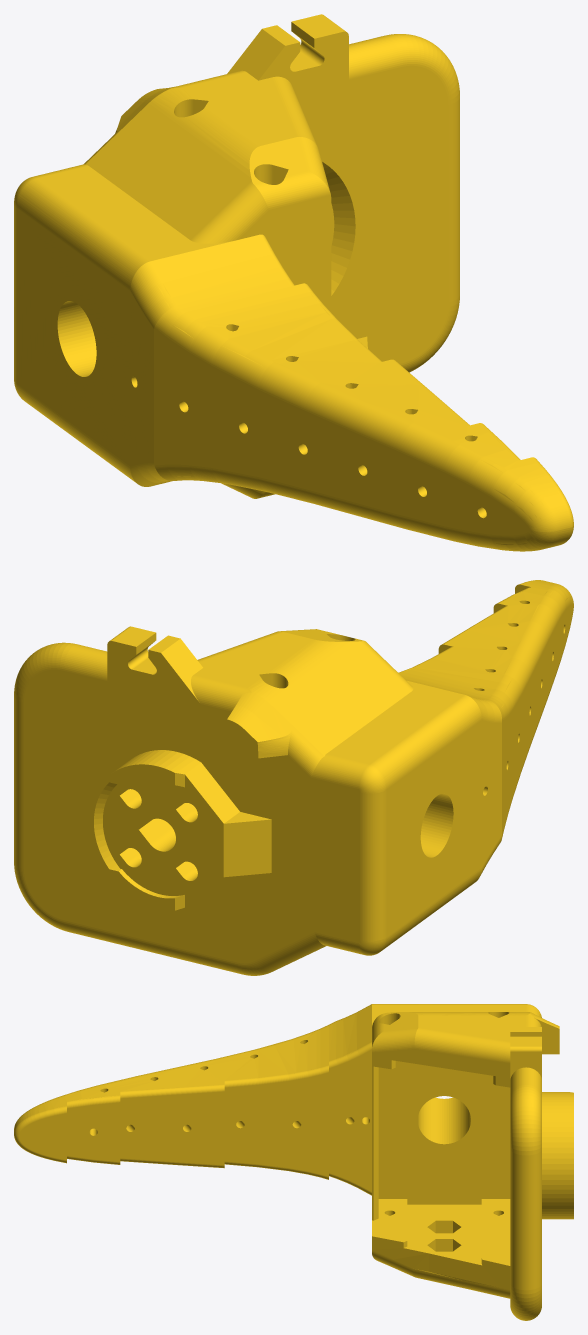
The model's file is SO101_gripper_visuals_wrist_roll_follower_so101_v1_mesh.obj.
The picture shows the model from 3 angles, top to bottom: view 1: azimuth 30°, elevation 25°; view 2: azimuth 150°, elevation 25°; view 3: azimuth 270°, elevation 25°; orthographic projection. The views are drawn at different scales.
Bounding box in the file's own units: 0.0652 × 0.052 × 0.1054.
